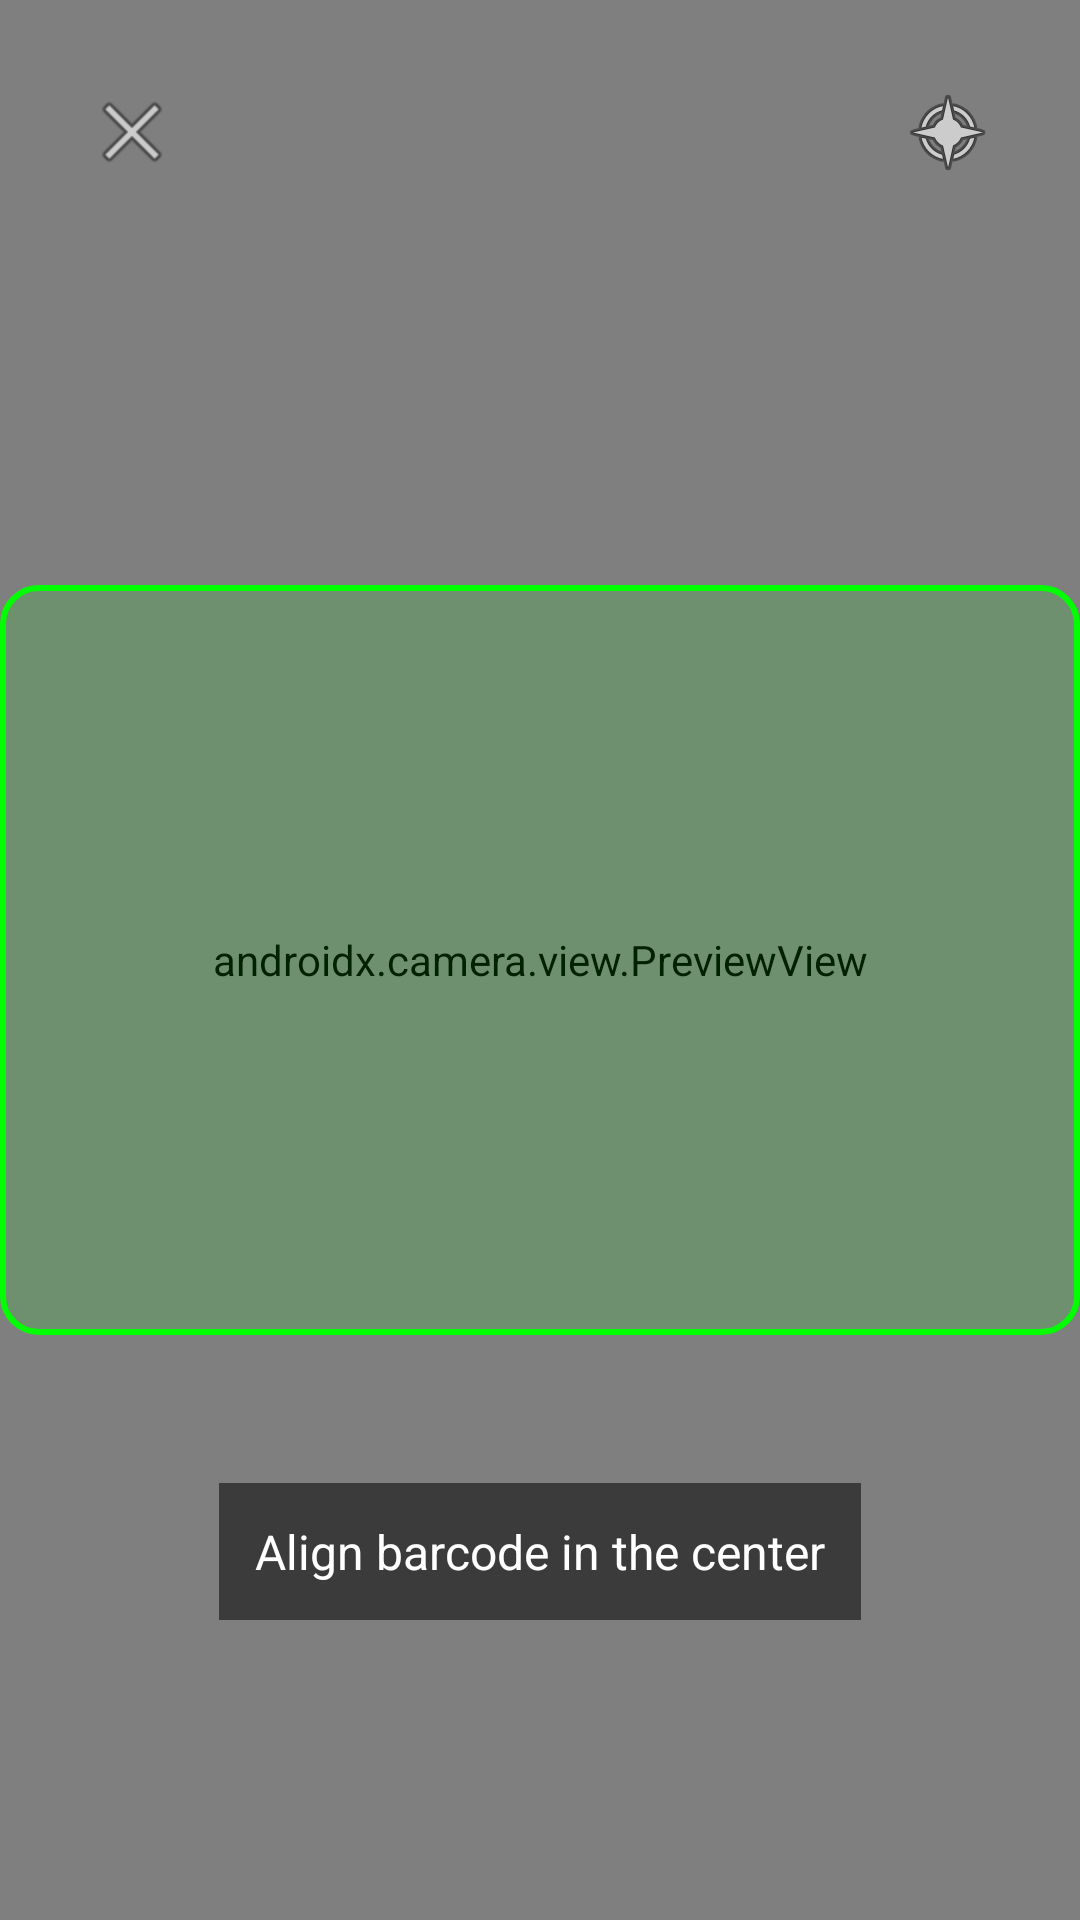

Icon bounding boxes for this 1080px x 1920px phone screenshot, format box(x1, y1, x2, y2):
close clear cancel: box(102, 102, 162, 162)
compass: box(910, 95, 985, 170)
